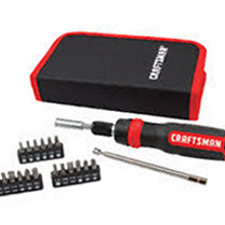Screwdriver: (48, 109, 225, 159)
